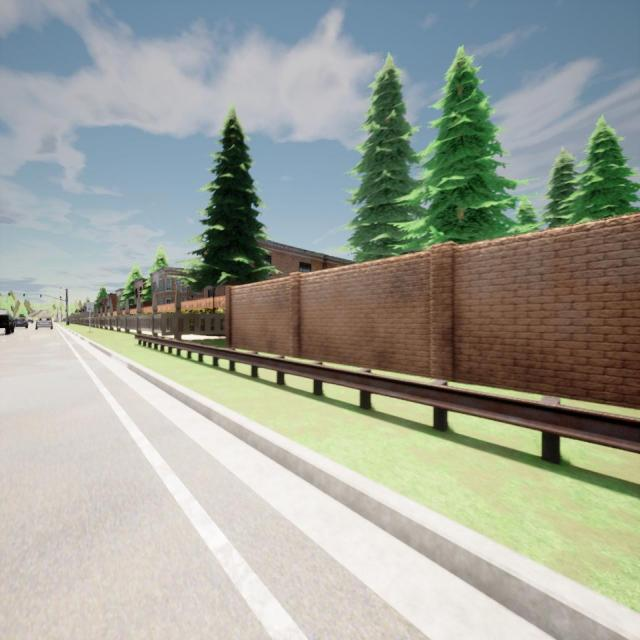Traffic_Signs: (86, 304, 92, 312)
Vehicle: (0, 310, 14, 335), (35, 316, 53, 329), (14, 317, 29, 328), (28, 318, 34, 324)
traffic_light: (8, 293, 10, 298), (23, 294, 25, 298), (40, 294, 41, 298)
